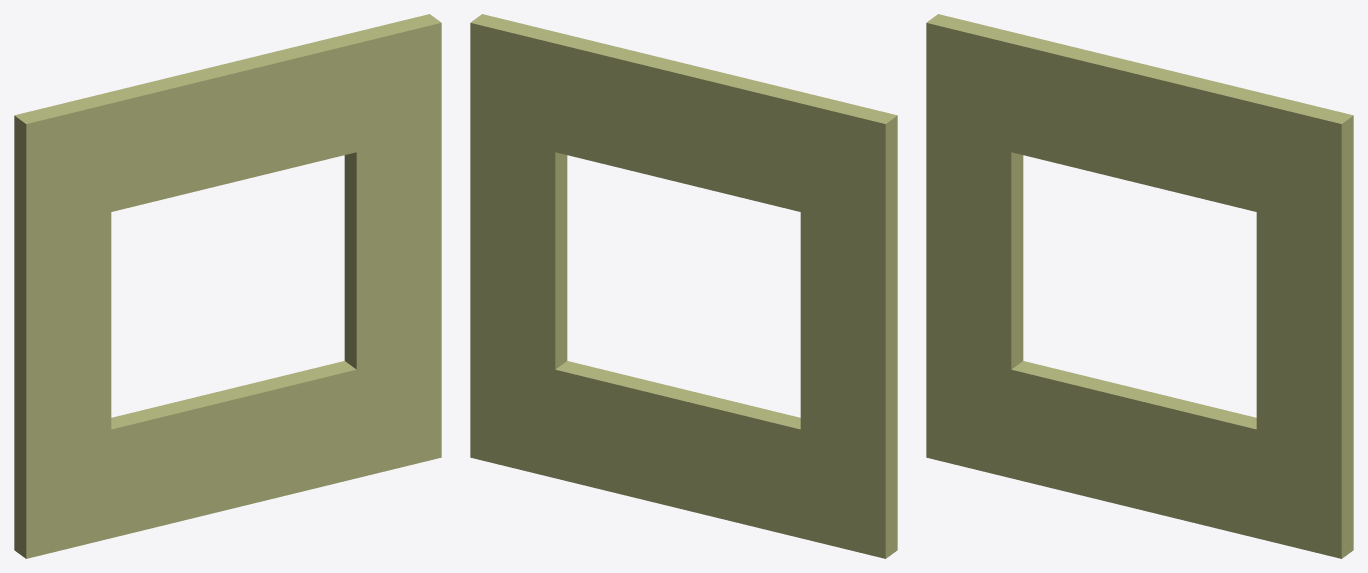
The model's file is Wal_5_C.fbx.
3 renders of one model, left to right at view 1: azimuth 30°, elevation 25°; view 2: azimuth 150°, elevation 25°; view 3: azimuth 330°, elevation 25°, orthographic.
Visible parts, largest first — view 1: pCube51; view 2: pCube51; view 3: pCube51.
Part boxes in pixels (x1,y1,x2,y2): pCube51: [14, 14, 441, 558]; pCube51: [470, 14, 897, 558]; pCube51: [926, 14, 1353, 558].
Size of the model in its own units: 4 by 4 by 0.2.
1 material, 1 textured.
